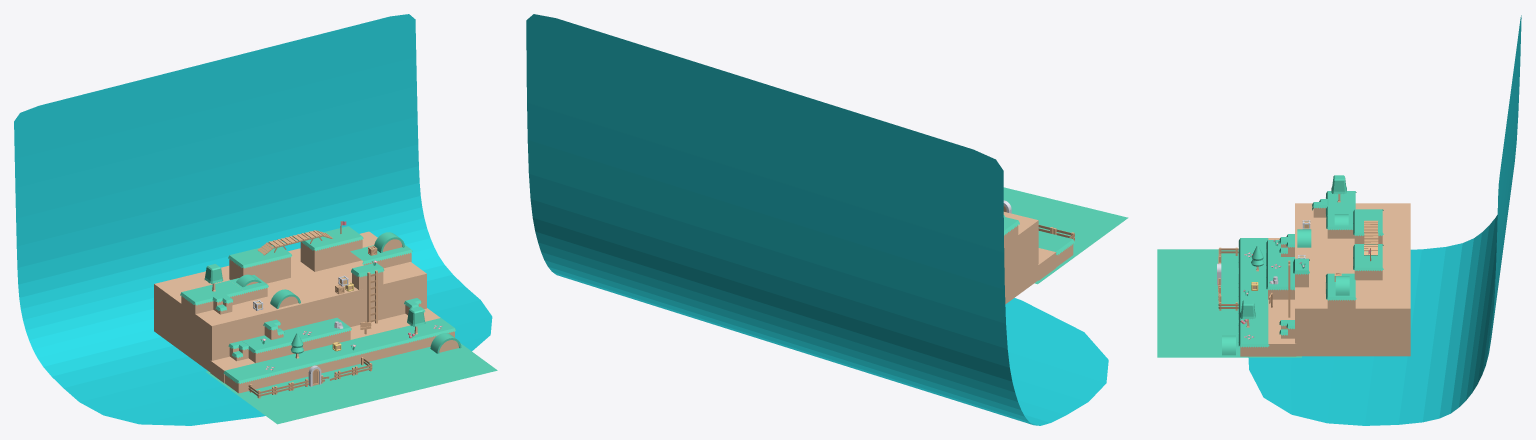
The model's file is mapaMine2.fbx.
3 views of the same model, side by side, from view 1: azimuth 30°, elevation 25°; view 2: azimuth 150°, elevation 25°; view 3: azimuth 270°, elevation 25° (orthographic). The views are drawn at different scales.
Visible parts, largest first — view 1: Plane, sign1; view 2: Plane, sign1; view 3: sign1, Plane.
Part boxes in pixels (<box>): Plane: <box>14,14,492,425</box>; sign1: <box>154,221,497,424</box>; Plane: <box>526,14,1108,425</box>; sign1: <box>1003,187,1128,304</box>; sign1: <box>1157,175,1410,357</box>; Plane: <box>1248,15,1521,425</box>.
Bounding box in the file's own units: 6303 × 3936 × 5053.
